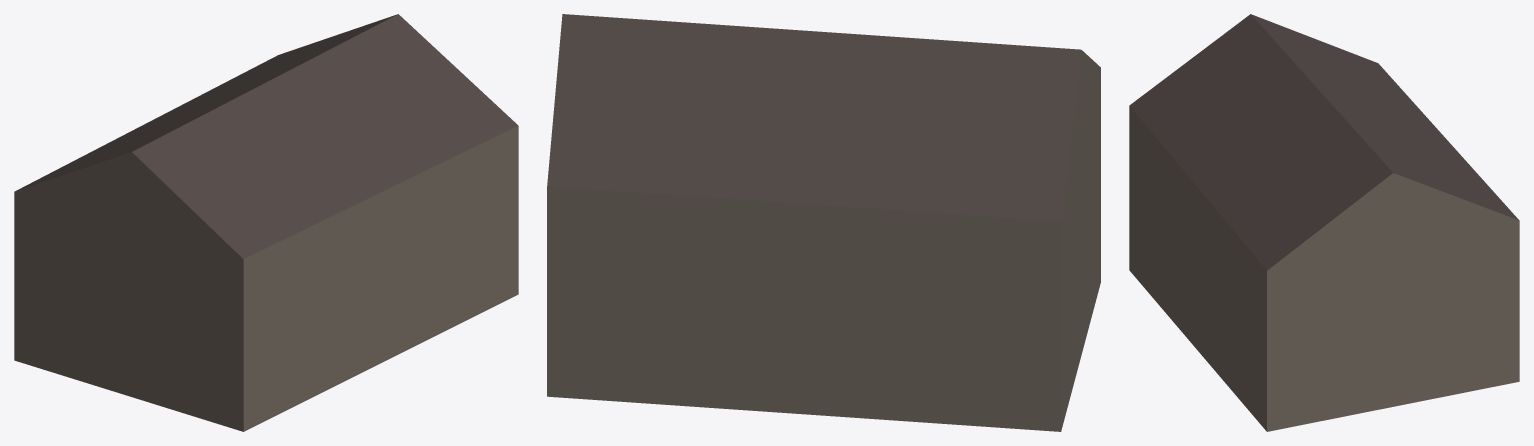
3 renders of one model, left to right at view 1: azimuth 30°, elevation 25°; view 2: azimuth 150°, elevation 25°; view 3: azimuth 270°, elevation 25°, orthographic. The views are drawn at different scales.
Visible parts, largest first — view 1: HP-w505659425; view 2: HP-w505659425; view 3: HP-w505659425.
Boxes of the visible parts, x1,y1,x2,y2 form: HP-w505659425: [14, 14, 518, 431]; HP-w505659425: [547, 14, 1100, 431]; HP-w505659425: [1129, 14, 1519, 431].
Size of the model in its own units: 16.58 by 8.71 by 13.17.
